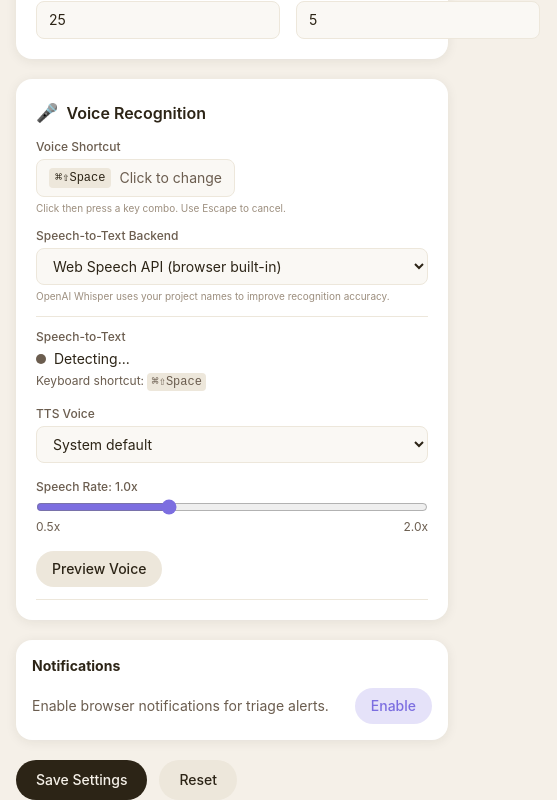
Test: SettingsPage › shows saved confirmation after successful save
This screenshot has width=557, height=800.
(page scrolled)
Click the button "Save Settings" at (82, 780), box 16,760 -> 147,799
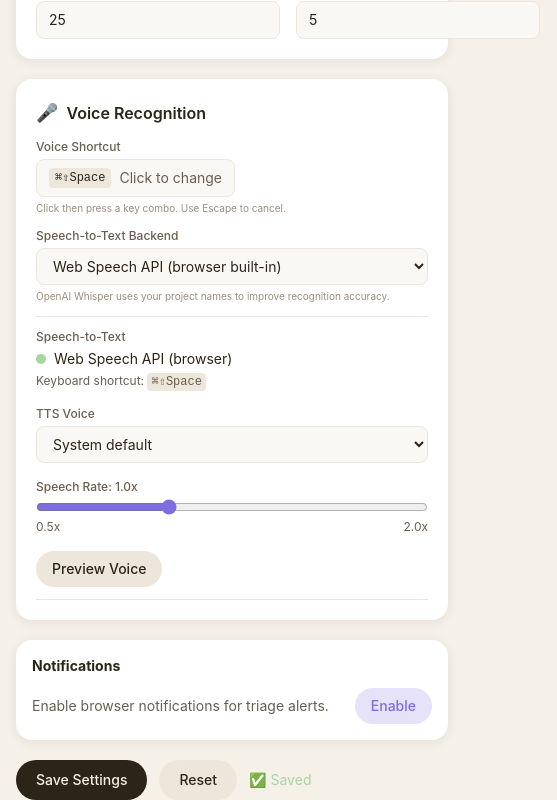
Now the text "✅ Saved" is shown, box 249,770 -> 312,790
